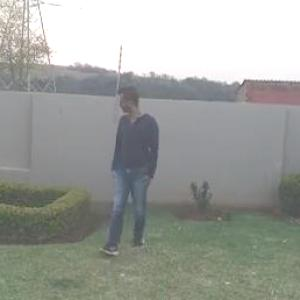follow: (104, 79, 158, 269)
